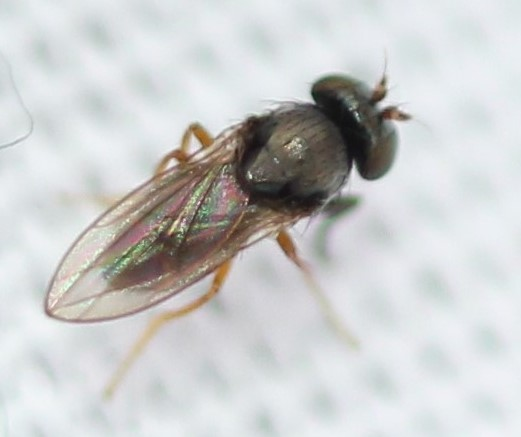Ephydridae: (45, 50, 428, 407)
